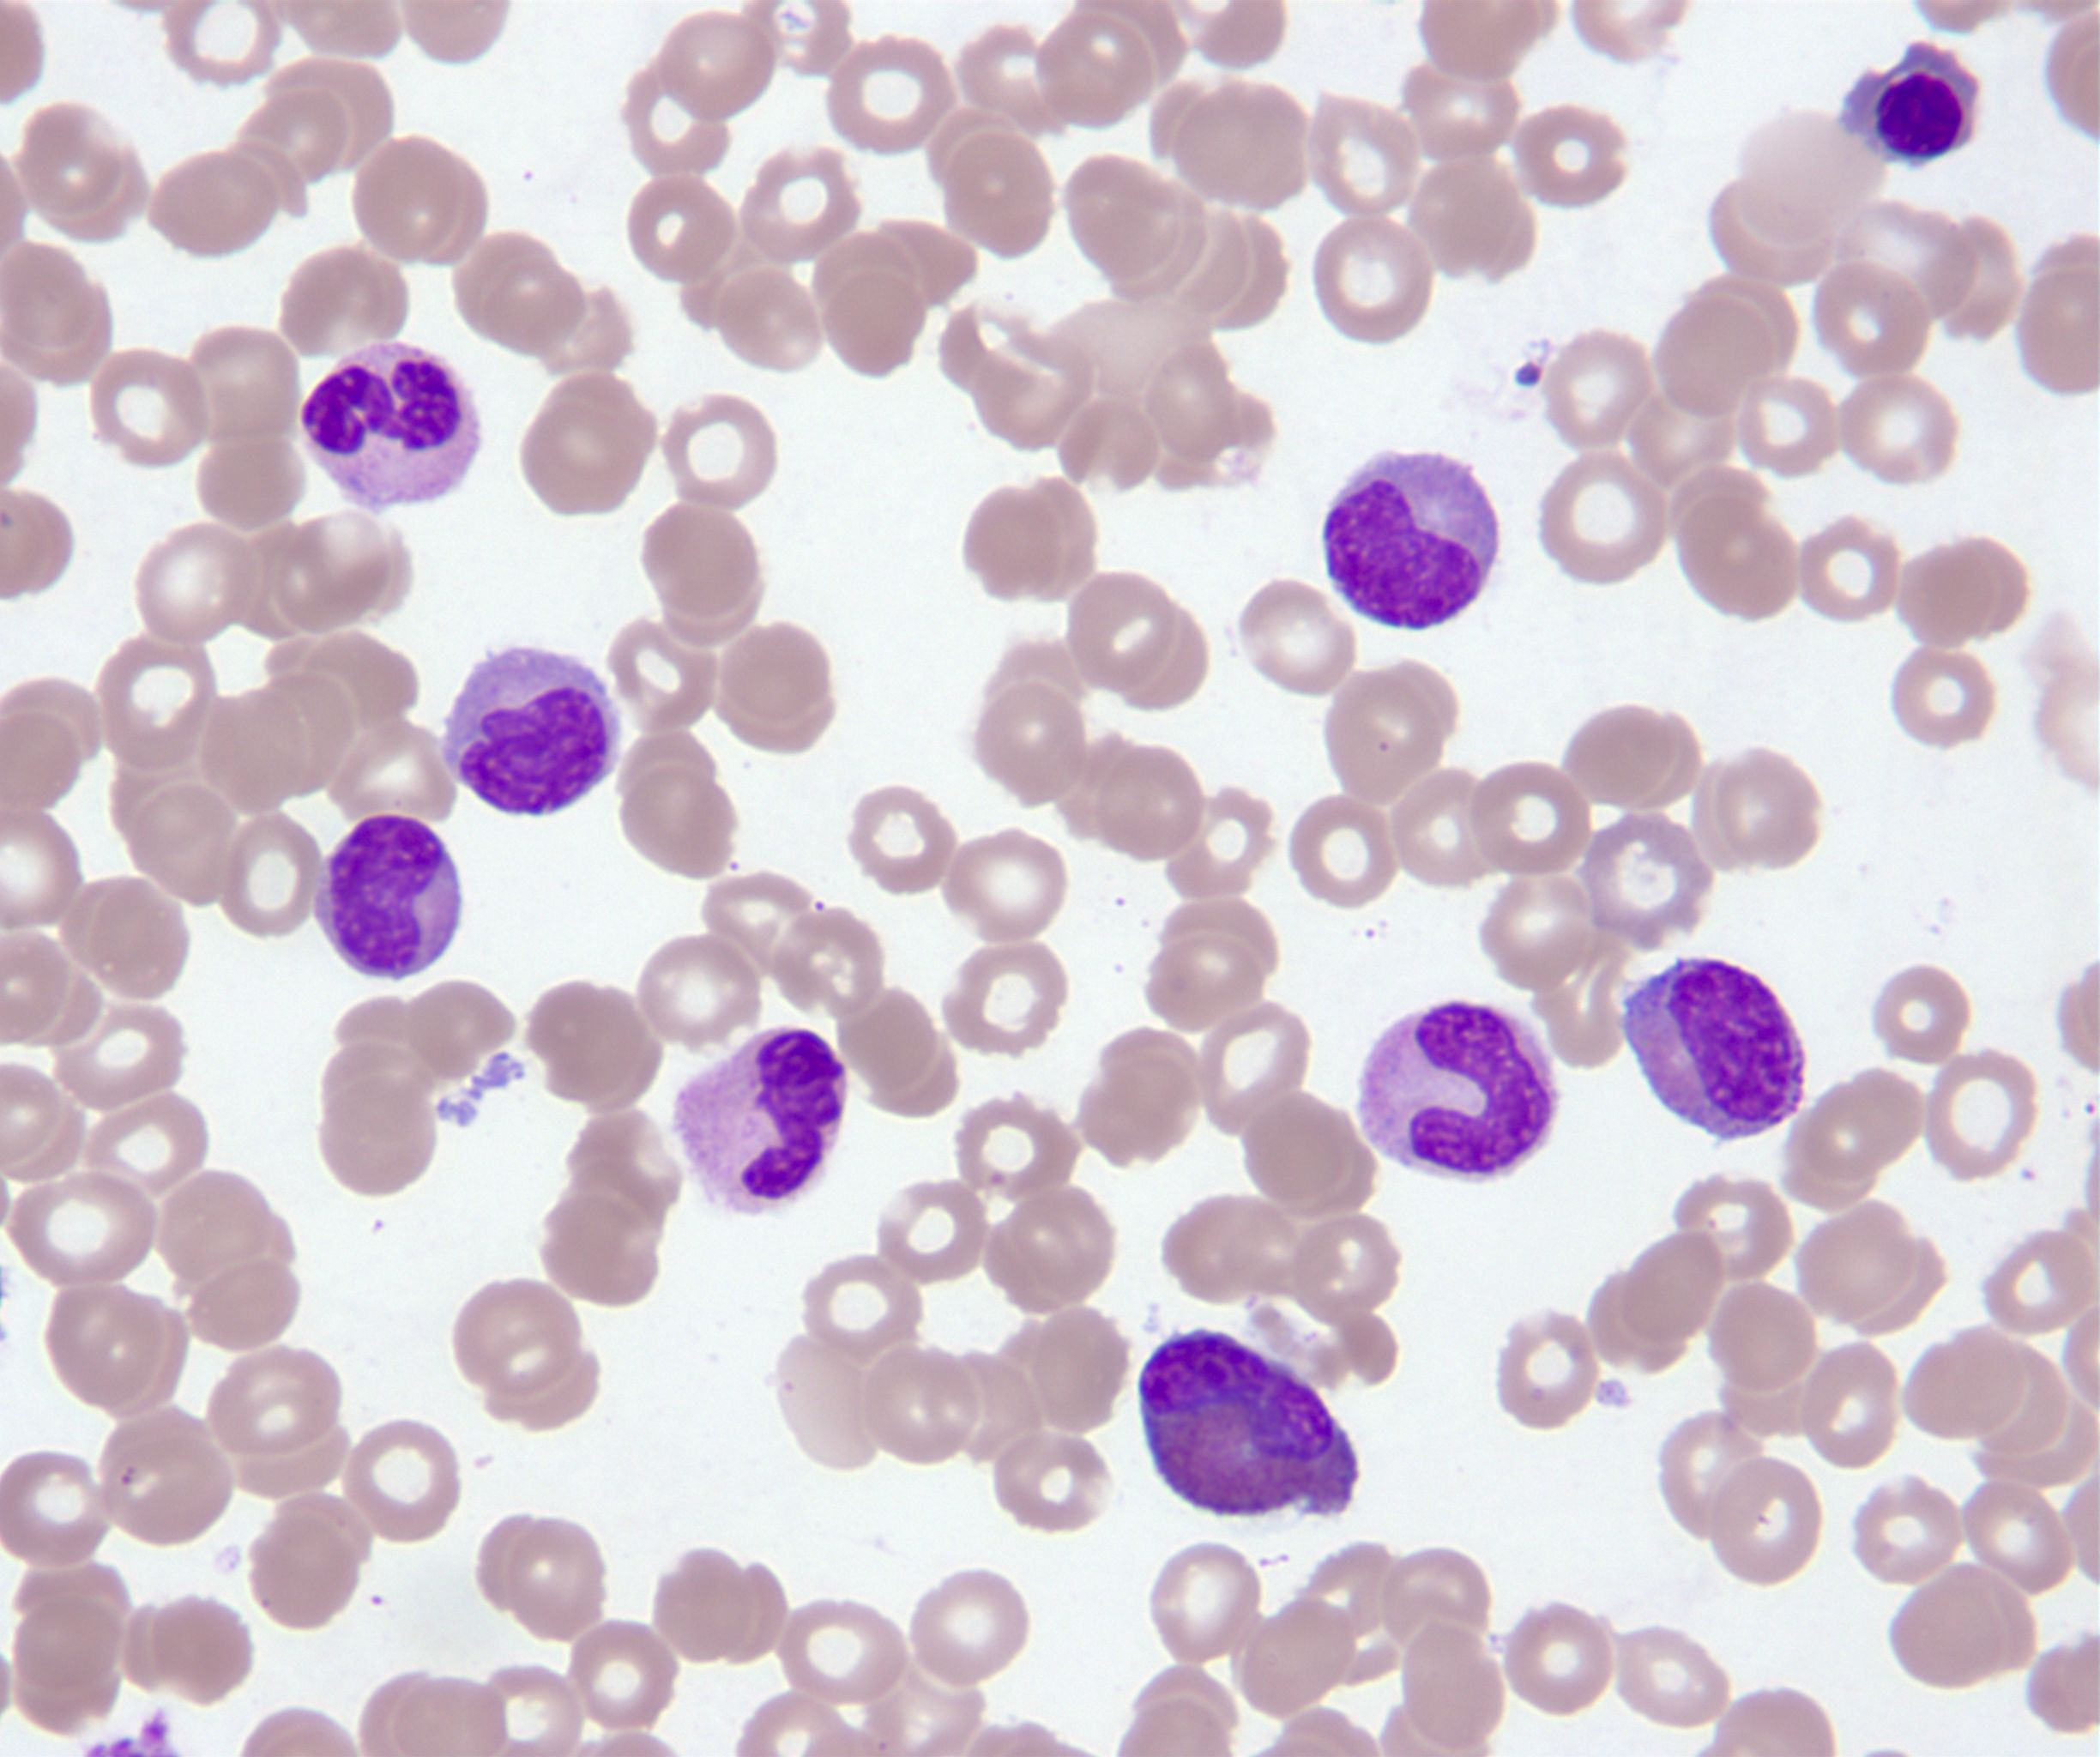24: (1845, 40, 1978, 166)
4: (1622, 958, 1809, 1136), (443, 646, 623, 822), (1326, 452, 1502, 628), (310, 813, 467, 986)
5: (1355, 1000, 1561, 1178), (673, 1026, 855, 1214), (300, 349, 483, 513)
E3: (1135, 1324, 1367, 1527)
